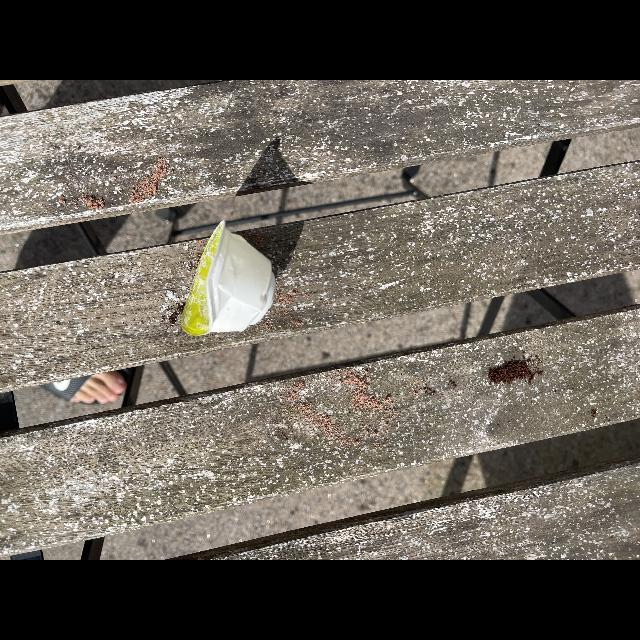damaged_capsule: (170, 216, 288, 344)
